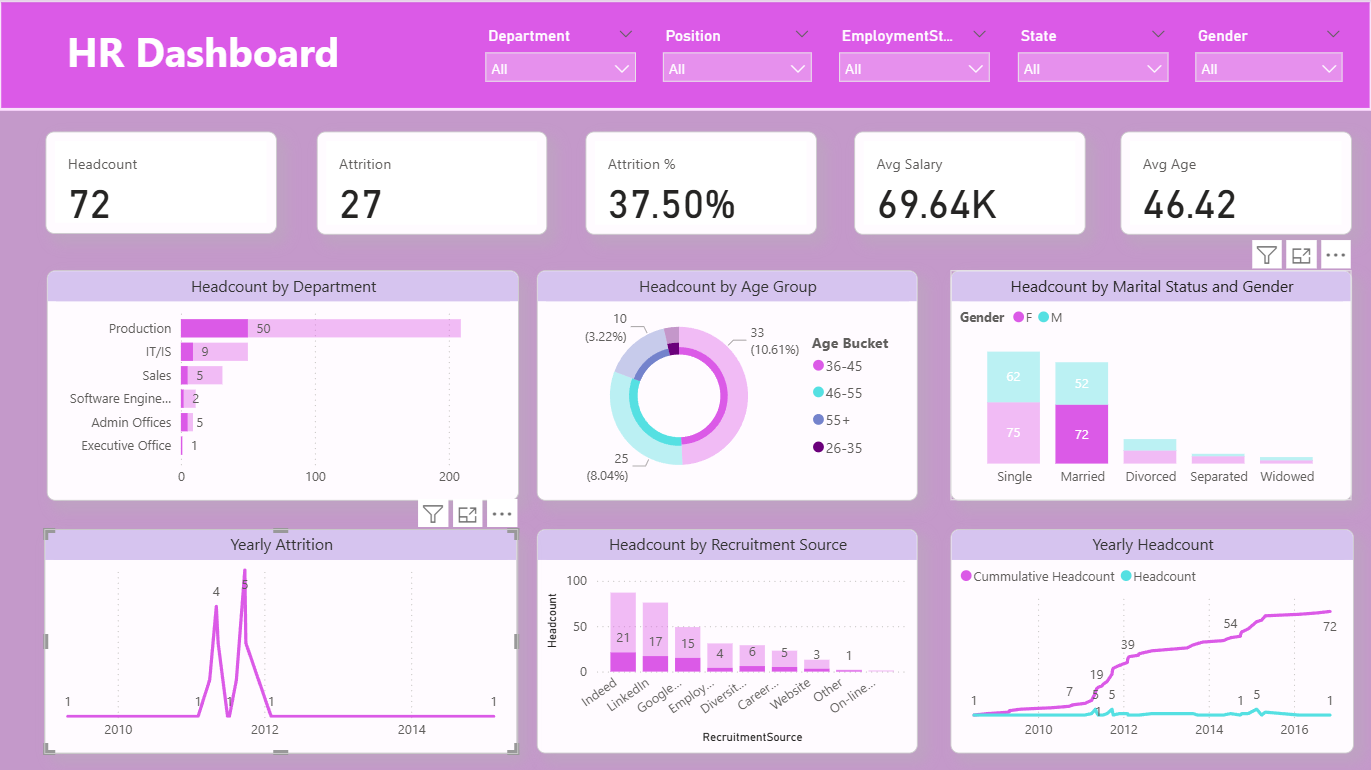

The dashboard page shown, as its layout file describes it:
{"tool":"powerbi","page":{"name":"Page 1","canvas":[1280,720],"ordinal":0},"visuals":[{"type":"shape","box":[0,0,1278.9,104.3],"z":0},{"type":"cardVisual","fields":{"Data":["Measure.Headcount"]},"box":[44.7,123.3,215.4,94.8],"z":1000},{"type":"cardVisual","fields":{"Data":["Measure.Attrition"]},"box":[296.7,123.3,214.1,96.2],"z":2000},{"type":"cardVisual","fields":{"Data":["Measure.Attrition %"]},"box":[546,123.3,215.4,96.2],"z":3000},{"type":"cardVisual","fields":{"Data":["Measure.Avg Salary"]},"box":[796.6,123.3,215.4,96.2],"z":4000},{"type":"cardVisual","fields":{"Data":["Measure.Avg Age"]},"box":[1044.5,123.3,215.4,96.2],"z":5000},{"type":"clusteredBarChart","fields":{"Y":["Measure.Headcount"],"Category":["HRDataset_v14.Department"]},"box":[45.3,252.5,439.1,214.1],"z":6000},{"type":"donutChart","title":"Headcount by Age Group","fields":{"Category":["HRDataset_v14.Age Bucket"],"Y":["Measure.Headcount"]},"box":[500.9,252.5,354,214.1],"z":7000},{"type":"columnChart","title":"Headcount by Marital Status and Gender","fields":{"Category":["HRDataset_v14.MaritalDesc"],"Y":["Measure.Headcount"],"Series":["HRDataset_v14.Gender"]},"box":[886.5,252.5,373.2,214.1],"z":8000},{"type":"lineChart","title":"Yearly Headcount ","fields":{"Category":["HRDataset_v14.DateofHire"],"Y":["Measure.Cummulative Headcount","Measure.Headcount"]},"box":[886,493.1,375.3,208.6],"z":9000},{"type":"lineChart","title":"Yearly Attrition ","fields":{"Y":["Measure.Attrition"],"Category":["HRDataset_v14.DateofHire"]},"box":[43.4,493.1,440.3,208.6],"z":10000},{"type":"columnChart","title":"Headcount by Recruitment Source","fields":{"Y":["Measure.Headcount"],"Category":["HRDataset_v14.RecruitmentSource"]},"box":[500.9,492.6,354,208.6],"z":11000},{"type":"slicer","fields":{"Values":["HRDataset_v14.Department"]},"box":[442.5,21.5,160,67.5],"z":12000},{"type":"slicer","fields":{"Values":["HRDataset_v14.Position"]},"box":[608.1,20.9,158.8,68.8],"z":13000},{"type":"slicer","fields":{"Values":["HRDataset_v14.State"]},"box":[938.1,20.9,160,68.8],"z":14000},{"type":"slicer","fields":{"Values":["HRDataset_v14.EmploymentStatus"]},"box":[772.5,20.9,160,68.8],"z":15000},{"type":"slicer","fields":{"Values":["HRDataset_v14.Gender"]},"box":[1103.8,20.9,157.5,68.8],"z":16000},{"type":"textbox","box":[58.8,18.8,306.2,68.8],"z":17000}]}

Visuals, with their boxes in screenshot pixels (x1, y1, x2, y2), scaled from the page's 1280x720 canvas onto the 1371x770 screenshot:
shape: crop(0, 0, 1370, 112)
cardVisual - Measure.Headcount: crop(48, 132, 279, 233)
cardVisual - Measure.Attrition: crop(318, 132, 547, 235)
cardVisual - Measure.Attrition %: crop(585, 132, 816, 235)
cardVisual - Measure.Avg Salary: crop(853, 132, 1084, 235)
cardVisual - Measure.Avg Age: crop(1119, 132, 1349, 235)
clusteredBarChart - Measure.Headcount x HRDataset_v14.Department: crop(49, 270, 519, 499)
"Headcount by Age Group" donutChart: crop(537, 270, 916, 499)
"Headcount by Marital Status and Gender" columnChart: crop(950, 270, 1349, 499)
"Yearly Headcount " lineChart: crop(949, 527, 1351, 750)
"Yearly Attrition " lineChart: crop(46, 527, 518, 750)
"Headcount by Recruitment Source" columnChart: crop(537, 527, 916, 750)
slicer - HRDataset_v14.Department: crop(474, 23, 645, 95)
slicer - HRDataset_v14.Position: crop(651, 22, 821, 96)
slicer - HRDataset_v14.State: crop(1005, 22, 1176, 96)
slicer - HRDataset_v14.EmploymentStatus: crop(827, 22, 999, 96)
slicer - HRDataset_v14.Gender: crop(1182, 22, 1351, 96)
textbox: crop(63, 20, 391, 94)
